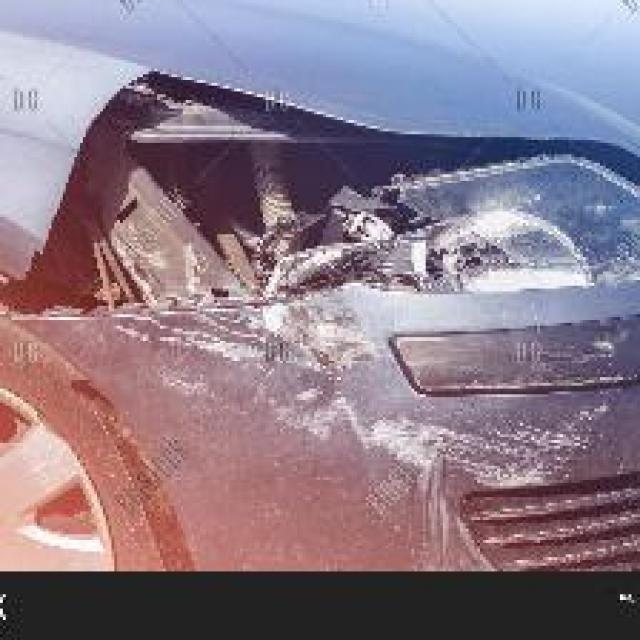damaged: (0, 68, 637, 534)
